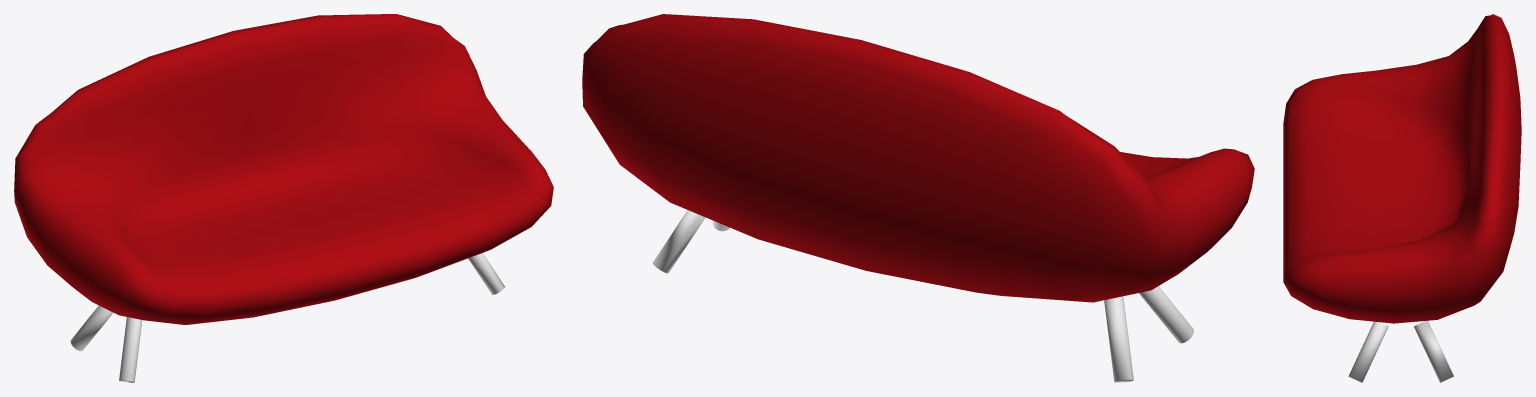
Rendered from sofa moderno.fbx.
3 views of the same model, side by side, from view 1: azimuth 30°, elevation 25°; view 2: azimuth 150°, elevation 25°; view 3: azimuth 270°, elevation 25° (orthographic). The views are drawn at different scales.
Visible parts, largest first — view 1: Cube, Cylinder; view 2: Cube, Cylinder; view 3: Cube, Cylinder.
Part boxes in pixels (x1,y1,x2,y2): Cube: [14, 14, 553, 324]; Cylinder: [70, 253, 504, 382]; Cube: [582, 14, 1254, 302]; Cylinder: [652, 210, 1193, 382]; Cube: [1283, 14, 1521, 323]; Cylinder: [1348, 320, 1453, 382].
Size of the model in its own units: 592 by 307 by 287.
